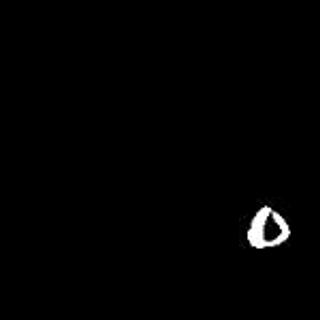zero: (249, 205, 290, 250)
